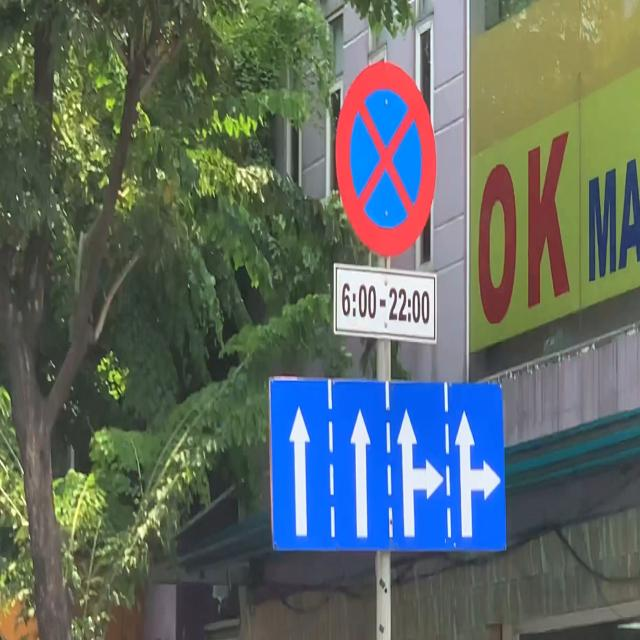Cam dung va do: (336, 61, 436, 256)
